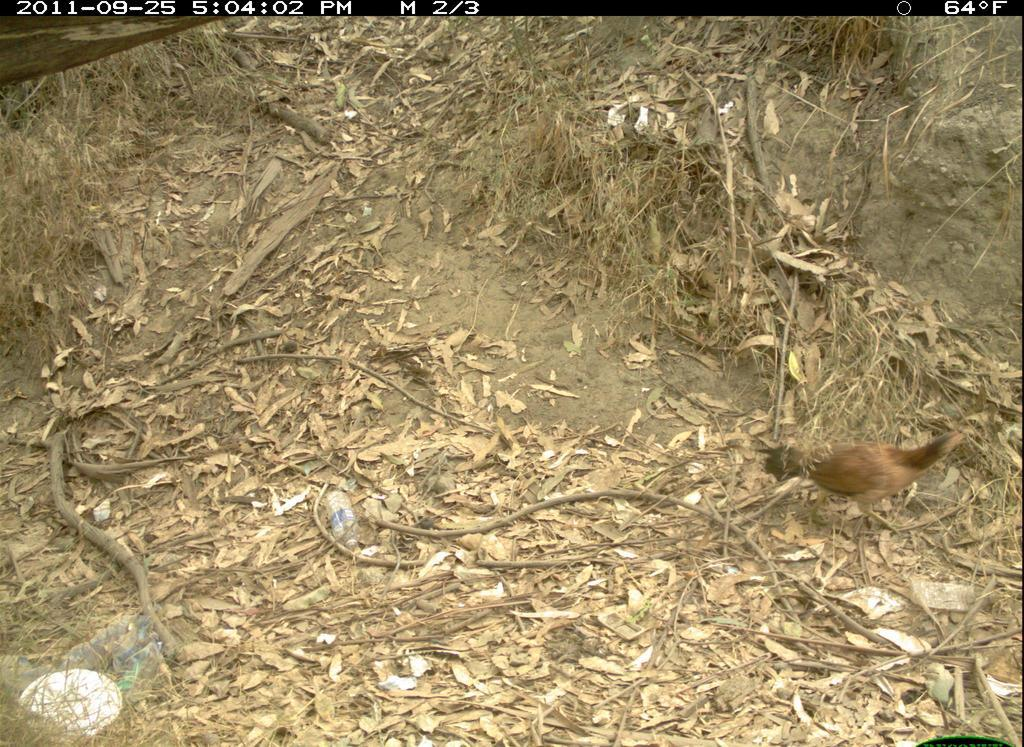bird: (763, 425, 972, 538)
